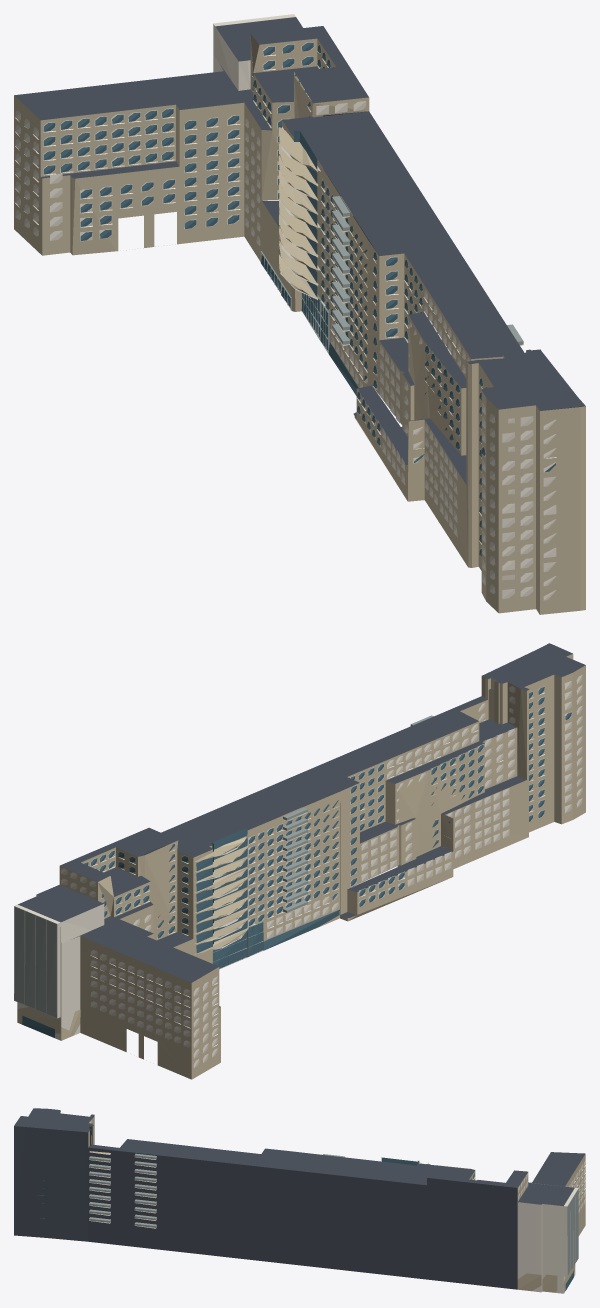
The model's file is mountain-network.lod1.glb.
The picture shows the model from 3 angles, top to bottom: view 1: azimuth 30°, elevation 25°; view 2: azimuth 150°, elevation 25°; view 3: azimuth 270°, elevation 25°; orthographic projection. The views are drawn at different scales.
Parts seen in each view (by area): view 1: mountain-network; view 2: mountain-network; view 3: mountain-network.
Boxes of the visible parts, box(x1,y1,x2,y2) form: mountain-network: box(14, 14, 585, 614); mountain-network: box(14, 643, 585, 1079); mountain-network: box(14, 1108, 585, 1293).
Bounding box in the file's own units: 65.83 × 43.74 × 207.
